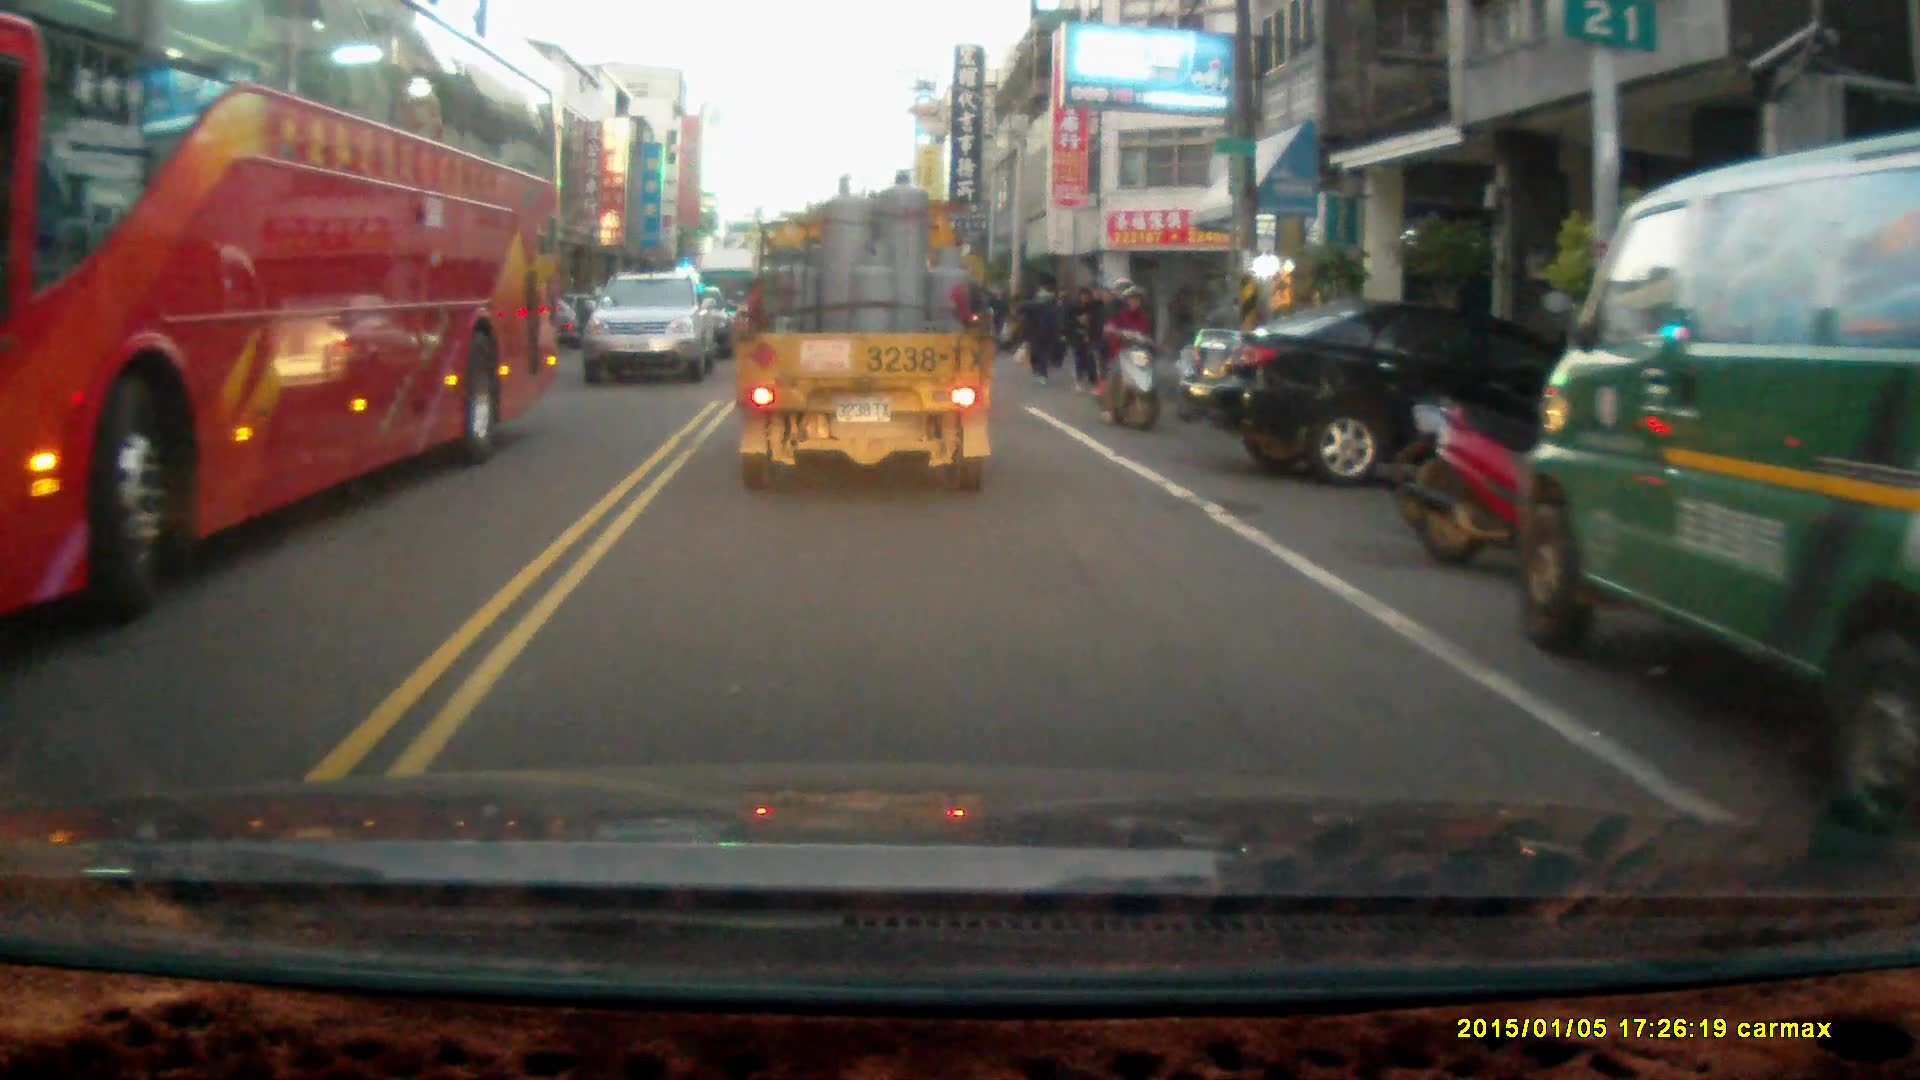pedestrian: (1064, 283, 1104, 396), (1021, 283, 1059, 379)
rider: (1096, 273, 1162, 432)
vehicle: (1, 7, 571, 646), (1516, 129, 1920, 802), (731, 165, 1000, 497), (1175, 301, 1634, 486), (584, 271, 717, 385)
